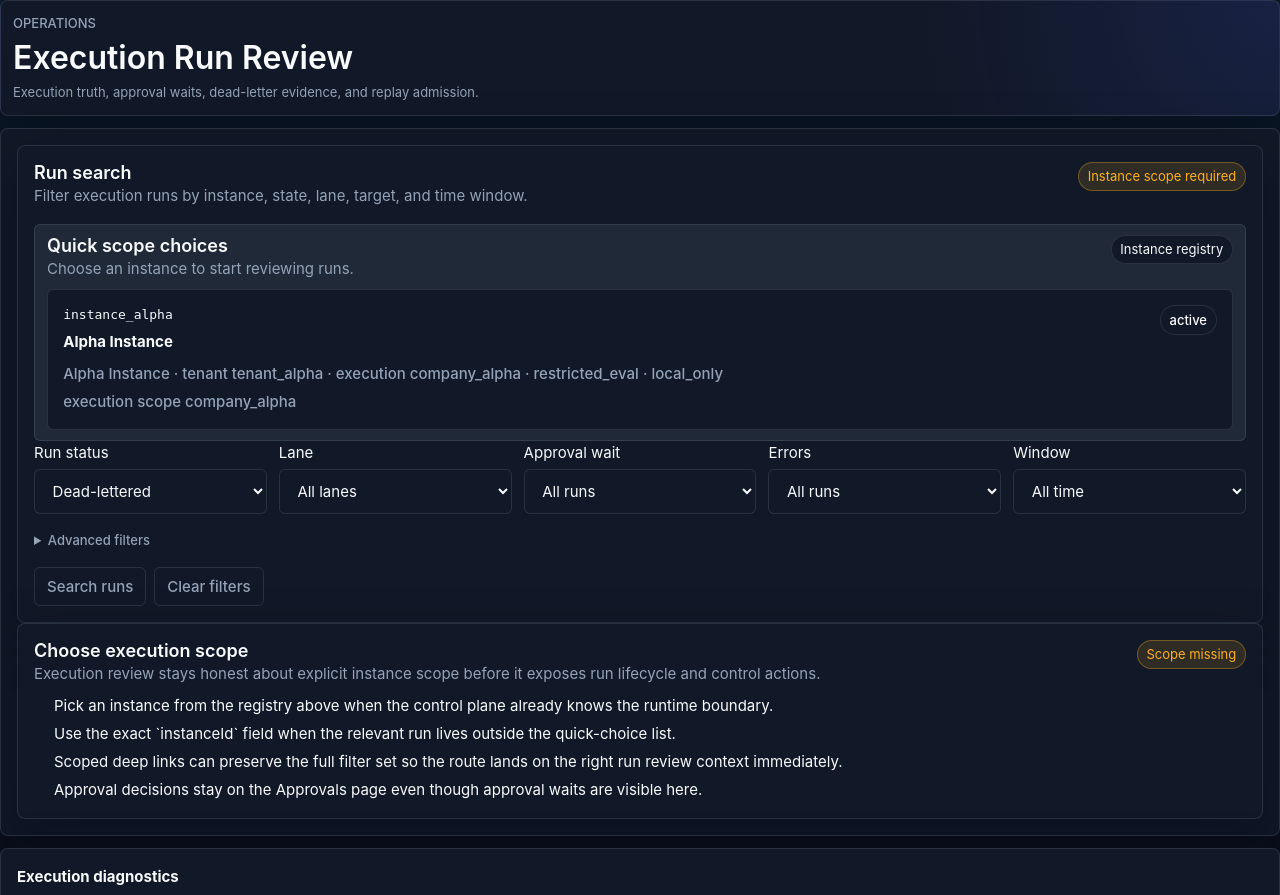
it: Execution page operator workflow › loads execution scope choices from the instance registry and opens the chosen instance
Click the button with class "fg-data-row": [640, 360] box 47,289 -> 1233,430
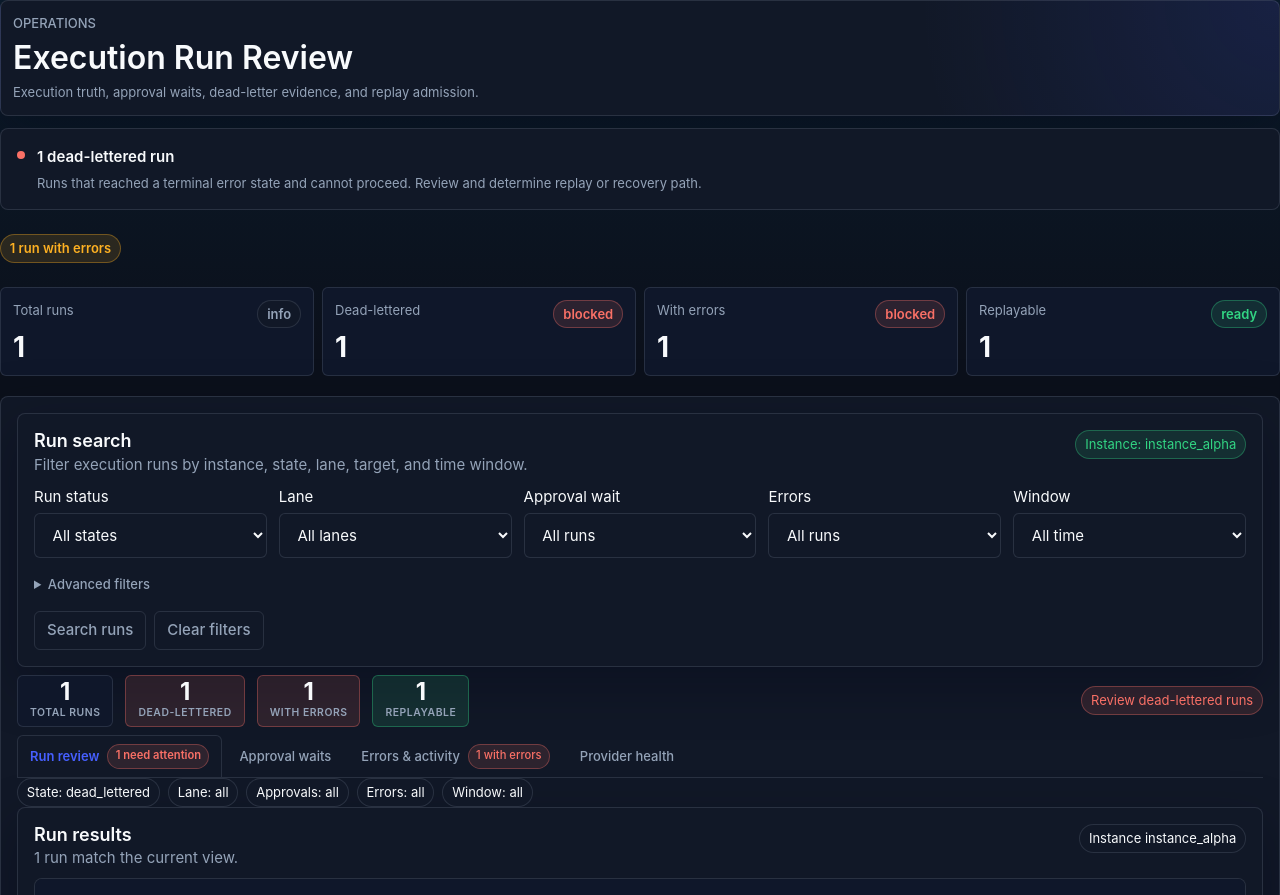
Now the text "Instance: instance_alpha" is shown, box 1075,430 -> 1246,460
